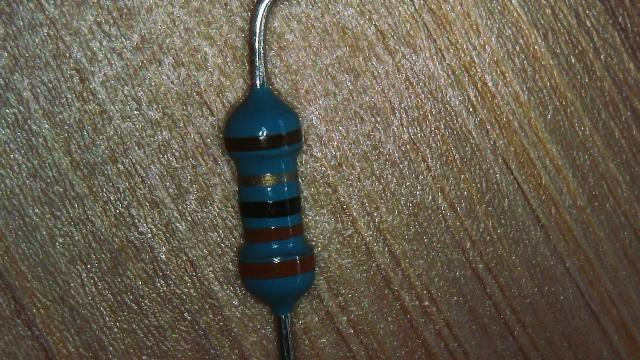black: (240, 195, 301, 218)
brown: (225, 128, 302, 152)
gold: (238, 171, 298, 186)
orange: (239, 254, 314, 278), (244, 224, 303, 243)
resistor: (202, 81, 336, 313)
